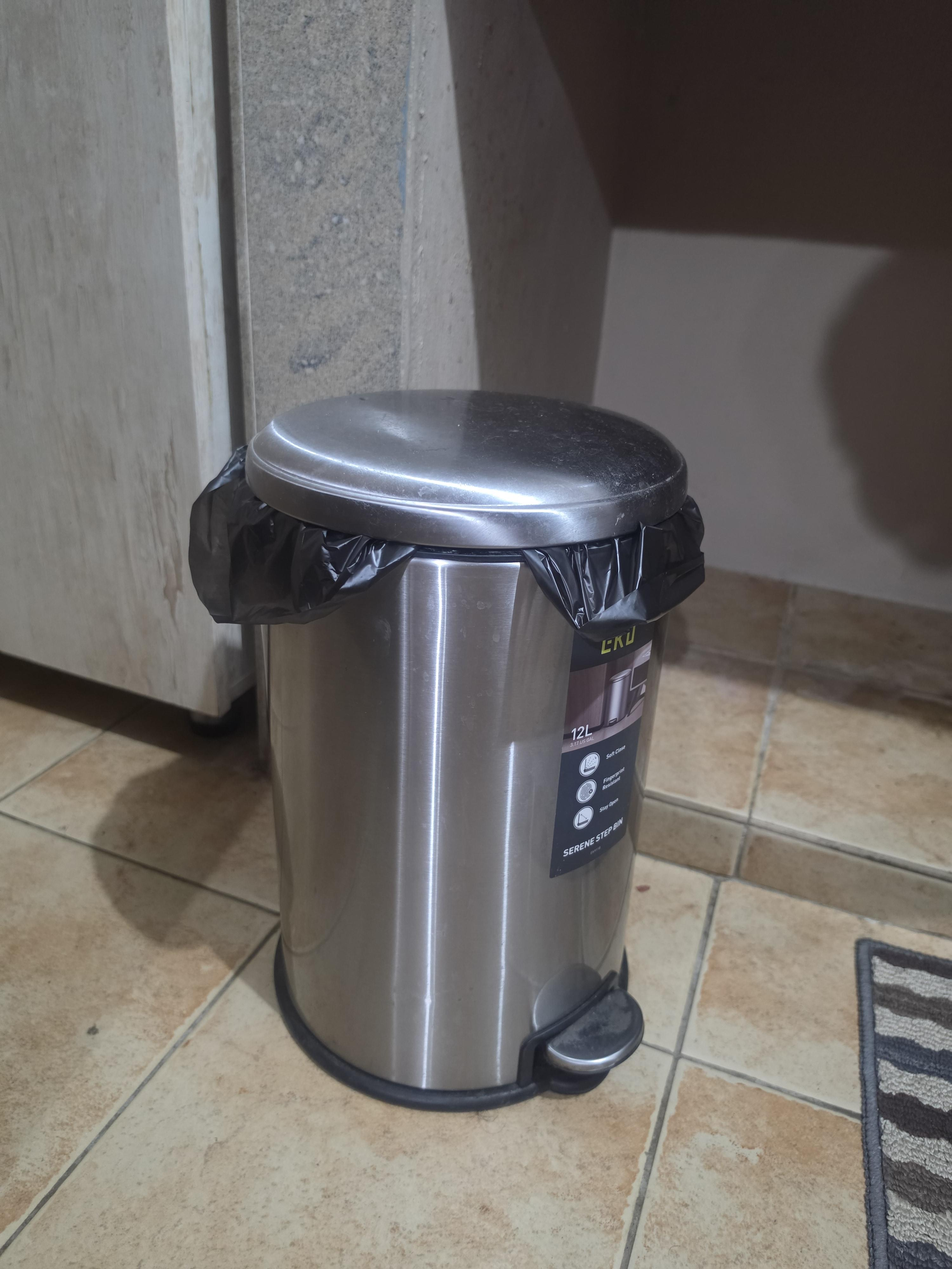bin: (188, 389, 705, 1113)
